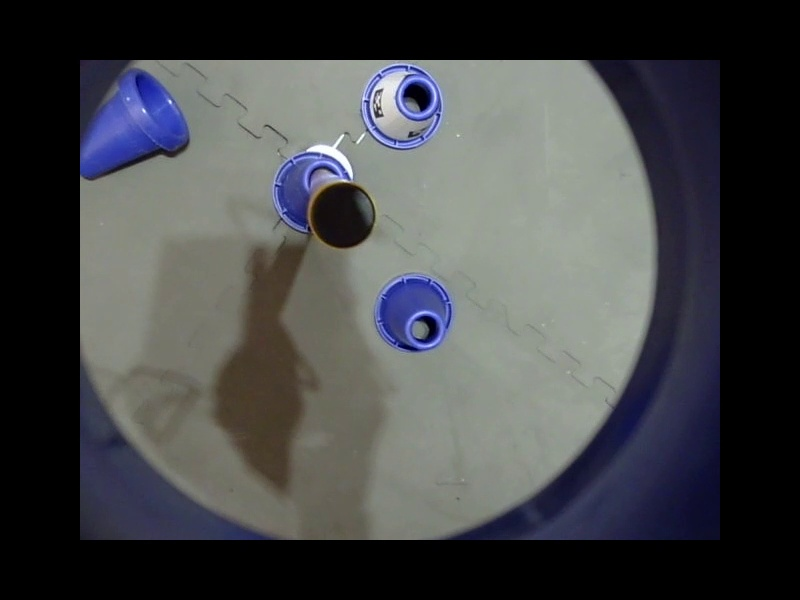tip: (402, 300, 509, 414)
